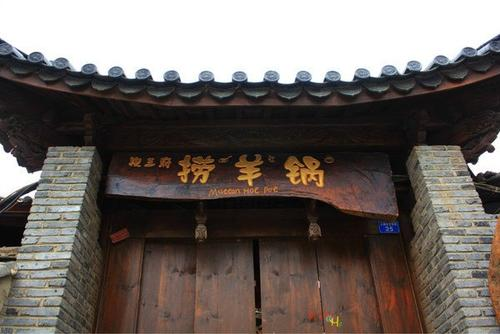chinese: (177, 148, 328, 190), (128, 151, 175, 174)
